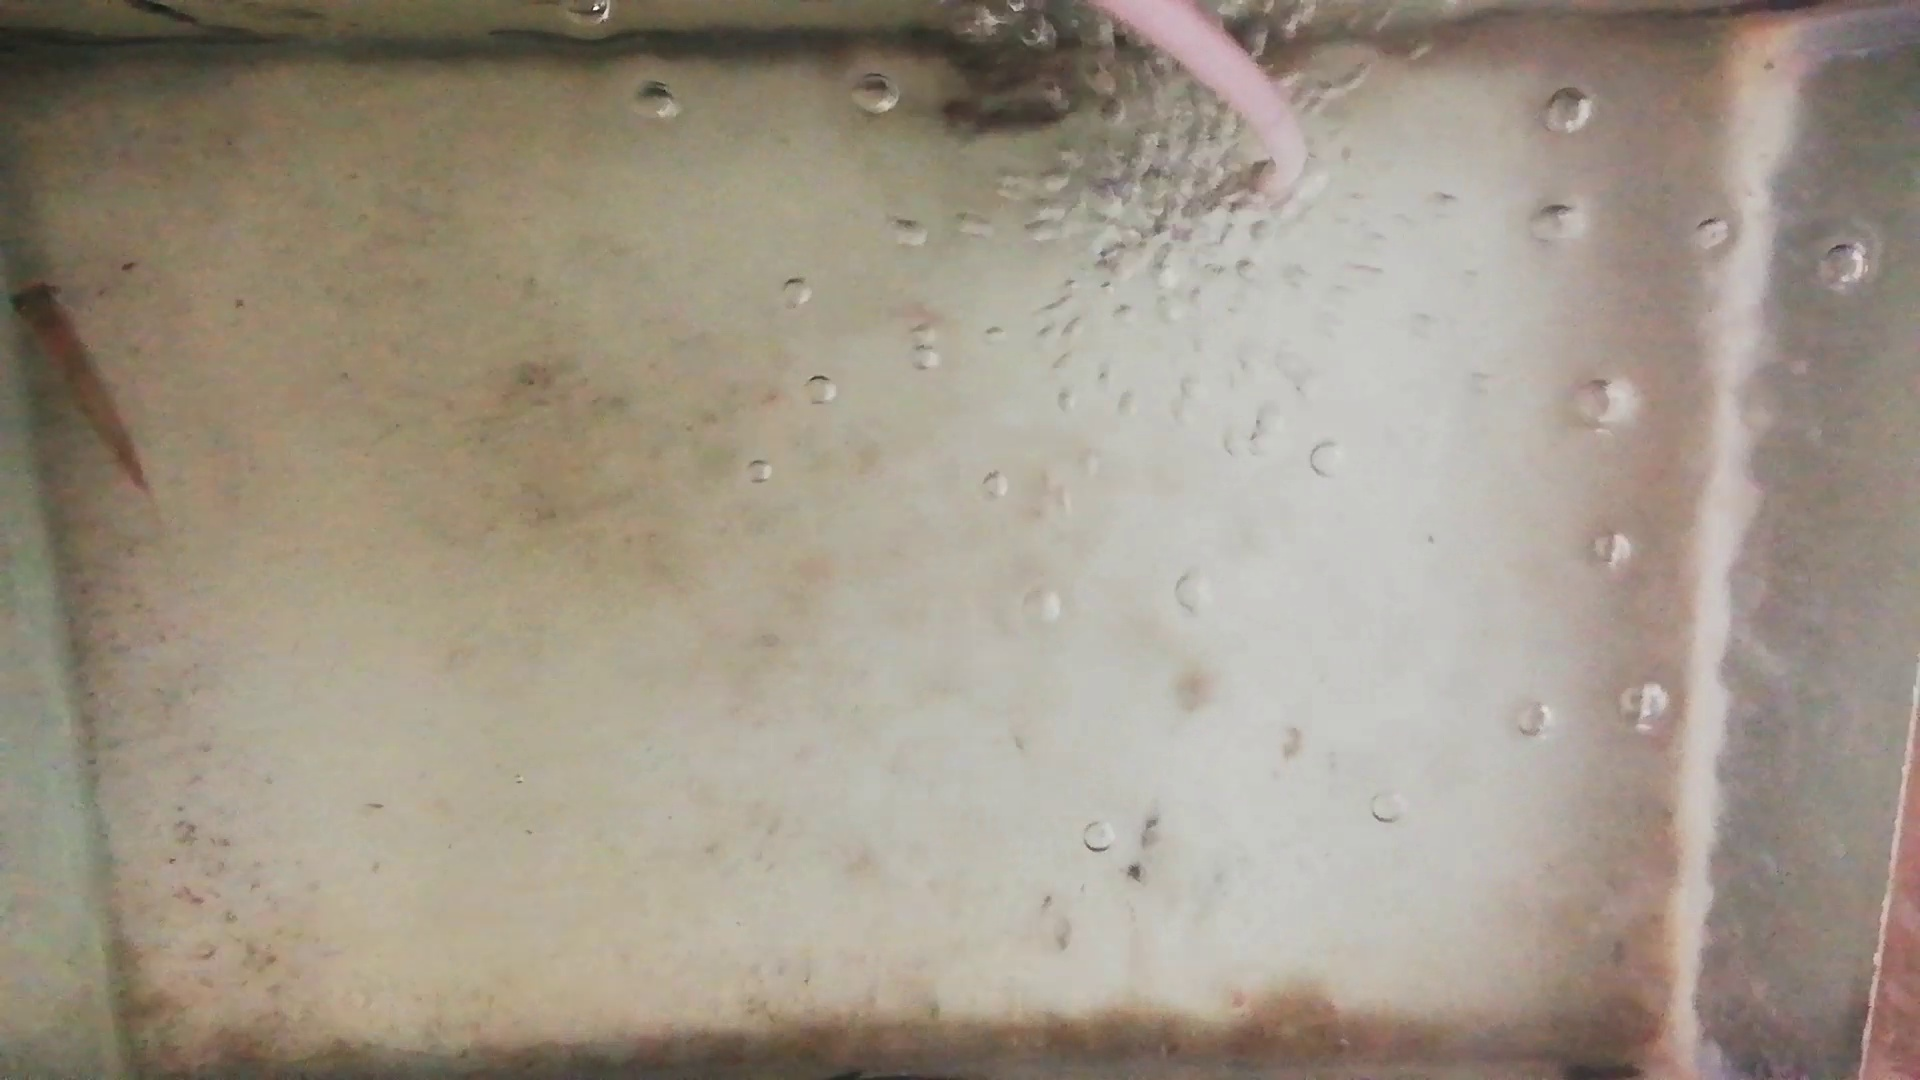fish: (11, 282, 145, 488), (938, 88, 1075, 138)
